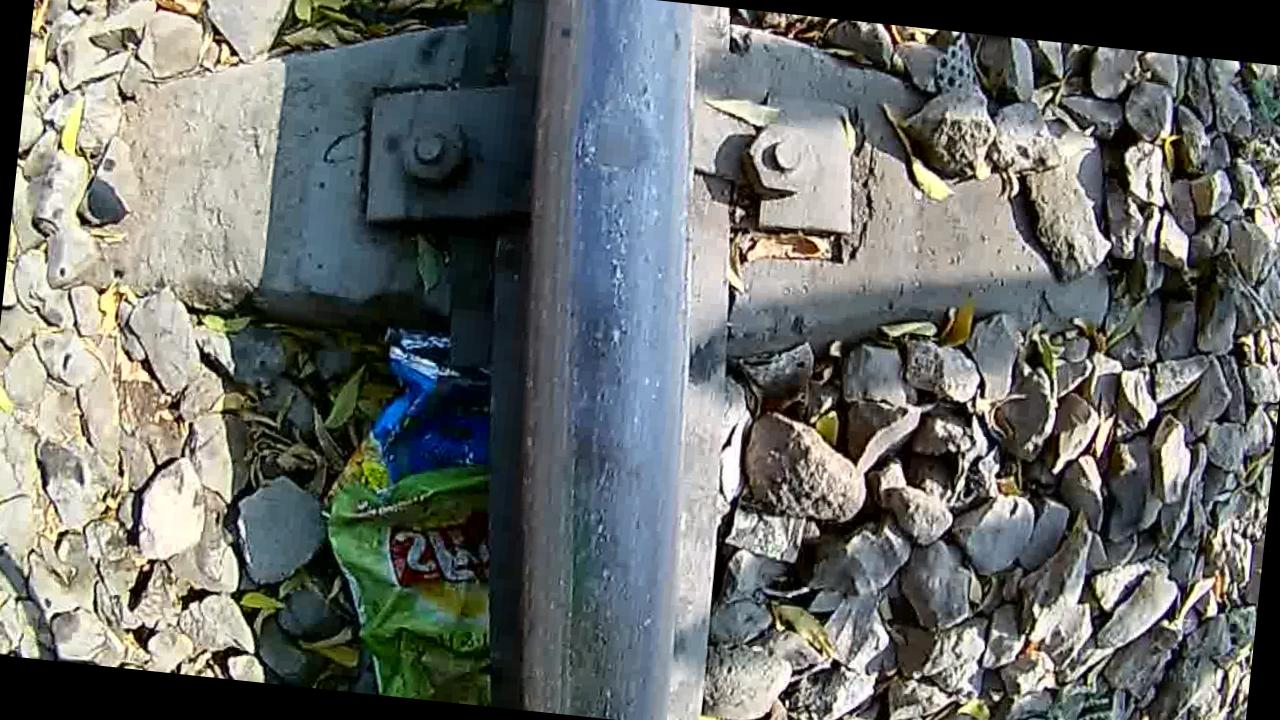bolt_missing: (501, 9, 712, 590)
